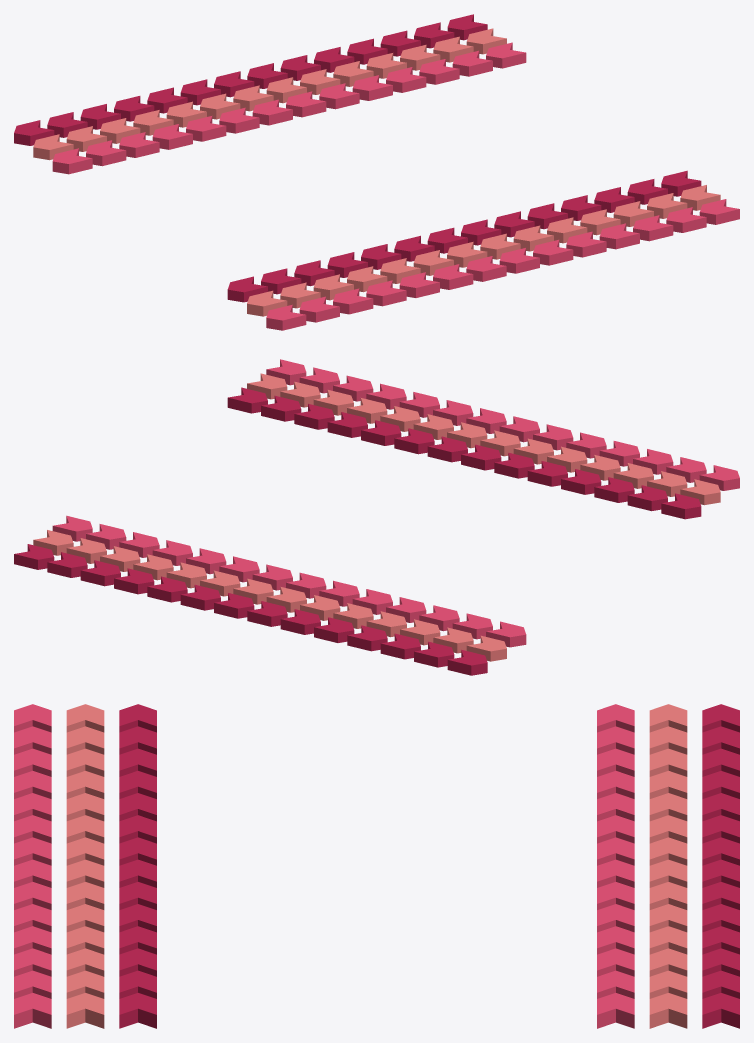
The model's file is opony.gltf.
3 views of the same model, one above another, from view 1: azimuth 30°, elevation 25°; view 2: azimuth 150°, elevation 25°; view 3: azimuth 270°, elevation 25° (orthographic). The views are drawn at different scales.
Parts seen in each view (by area): view 1: Plane, Plane.001; view 2: Plane, Plane.001; view 3: Plane, Plane.001.
Part boxes in pixels (left/top/right/bottom): Plane: left=14, top=14, right=526, bottom=174; Plane.001: left=227, top=170, right=739, bottom=330; Plane: left=14, top=515, right=526, bottom=675; Plane.001: left=227, top=359, right=739, bottom=519; Plane: left=597, top=704, right=739, bottom=1028; Plane.001: left=14, top=704, right=156, bottom=1028.
Size of the model in its own units: 2.39 by 0.0498 by 2.35.
Materials: 1 (1 with a texture image).
